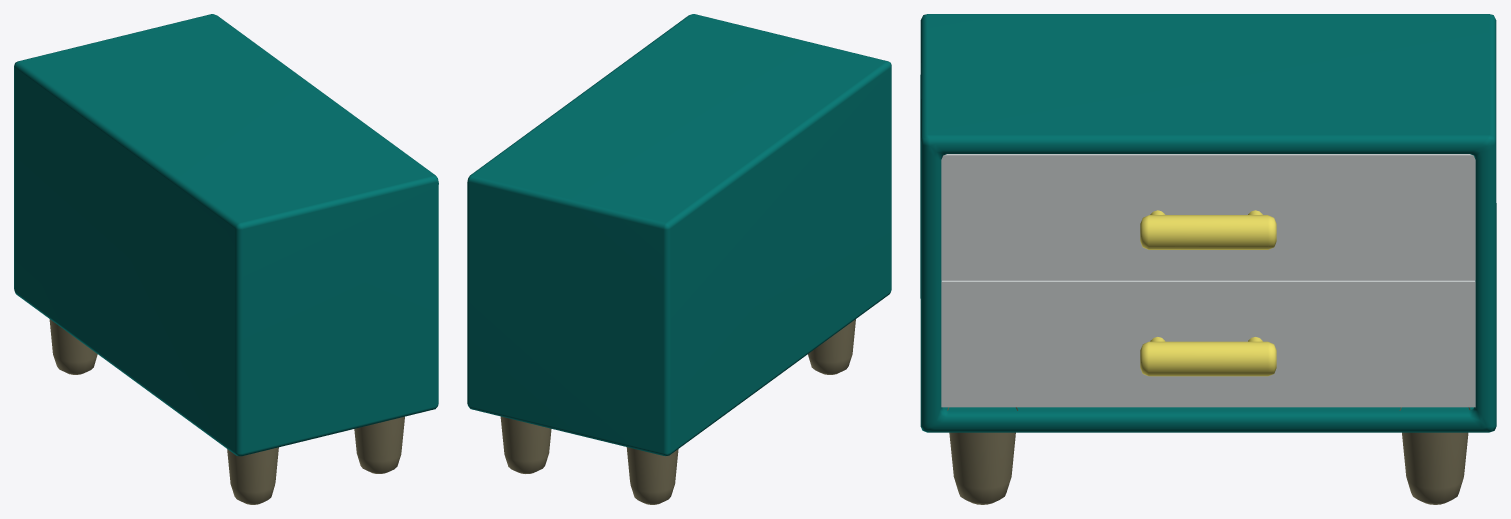
File: LargerDrawerLivingRoom.fbx
The picture shows the model from 3 angles, left to right: view 1: azimuth 30°, elevation 25°; view 2: azimuth 150°, elevation 25°; view 3: azimuth 270°, elevation 25°; orthographic projection. The views are drawn at different scales.
Visible parts, largest first — view 1: largeDrawerLivingRoom.001; view 2: largeDrawerLivingRoom.001; view 3: largeDrawerLivingRoom.001, largeDrawerLivingRoom.003, largeDrawerLivingRoom.002.
Part boxes in pixels (x1,y1,x2,y2): largeDrawerLivingRoom.001: [14, 14, 438, 504]; largeDrawerLivingRoom.001: [467, 14, 891, 504]; largeDrawerLivingRoom.001: [920, 14, 1496, 504]; largeDrawerLivingRoom.003: [941, 280, 1475, 407]; largeDrawerLivingRoom.002: [941, 154, 1475, 280].
Bounding box in the file's own units: 64.99 × 80.15 × 109.
